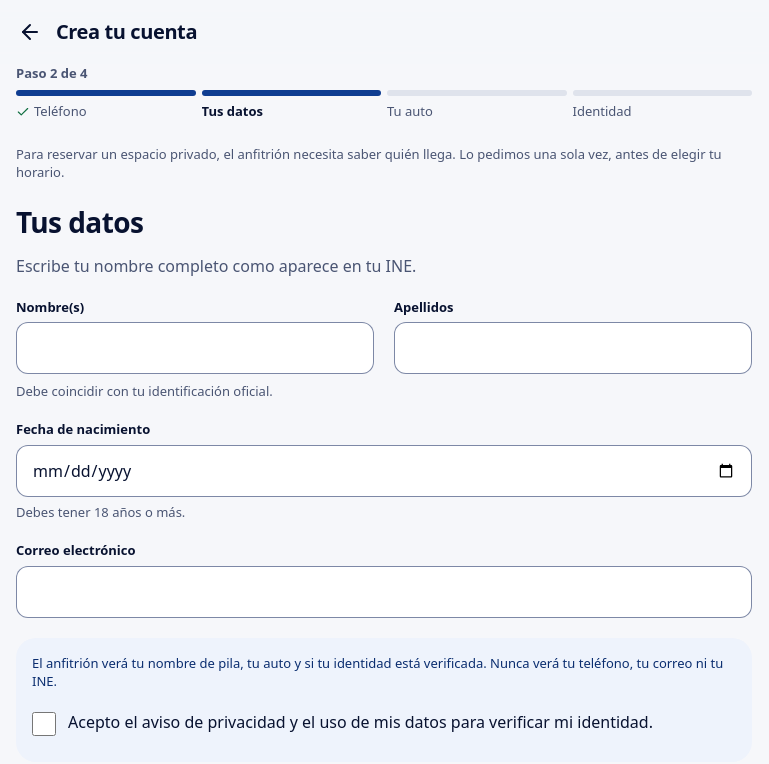
Test: creating an account › does not let anyone continue without accepting the privacy notice
Step 1. Type "Ana" into the field labelled "Nombre(s)" → (195, 348), box [32,322,358,374]
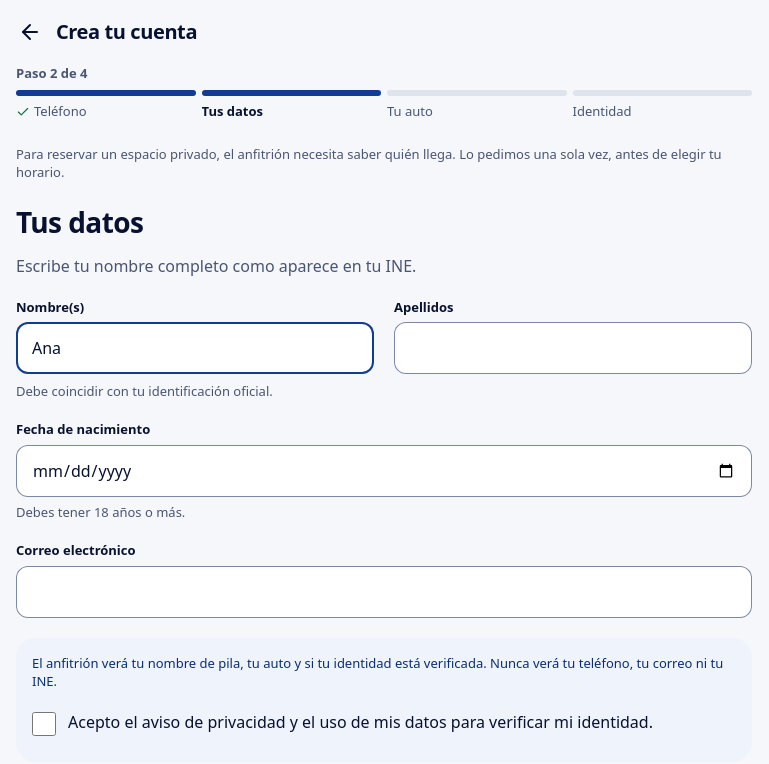
Step 2. Type "López García" into the field labelled "Apellidos" → (573, 348), box [410,322,736,374]
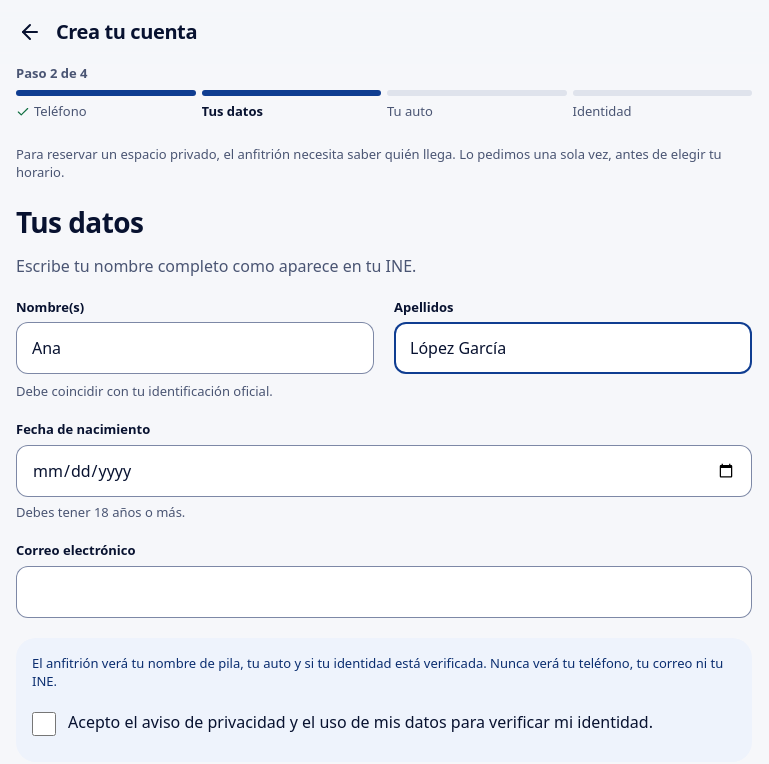
Step 3. Type "1995-03-02" into the date field labelled "Fecha de nacimiento" → (384, 471), box [32,445,736,497]
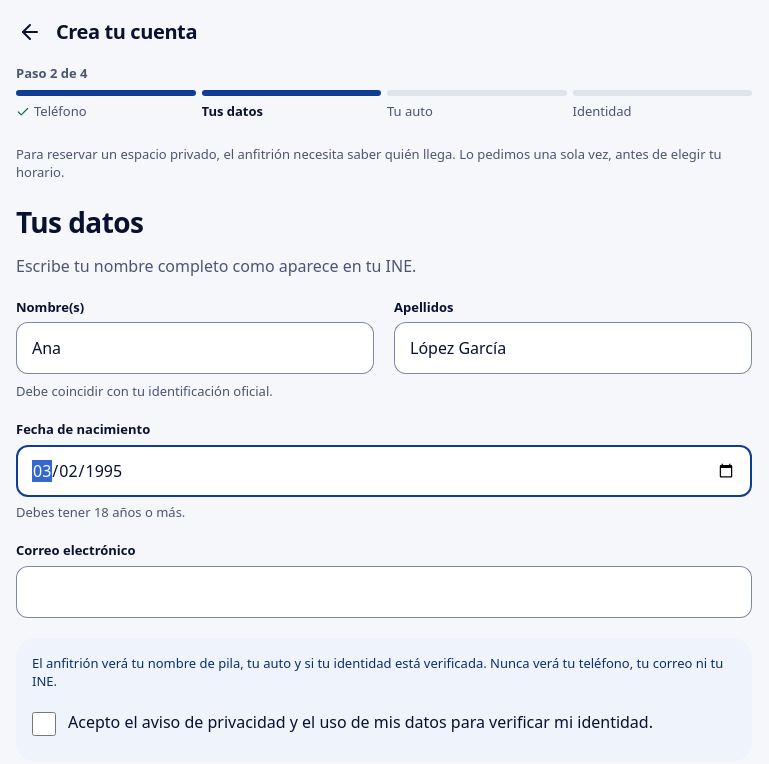
Step 4. Type "ana@example.com" into the field labelled "Correo electrónico" → (384, 592), box [32,566,736,618]
(page scrolled)
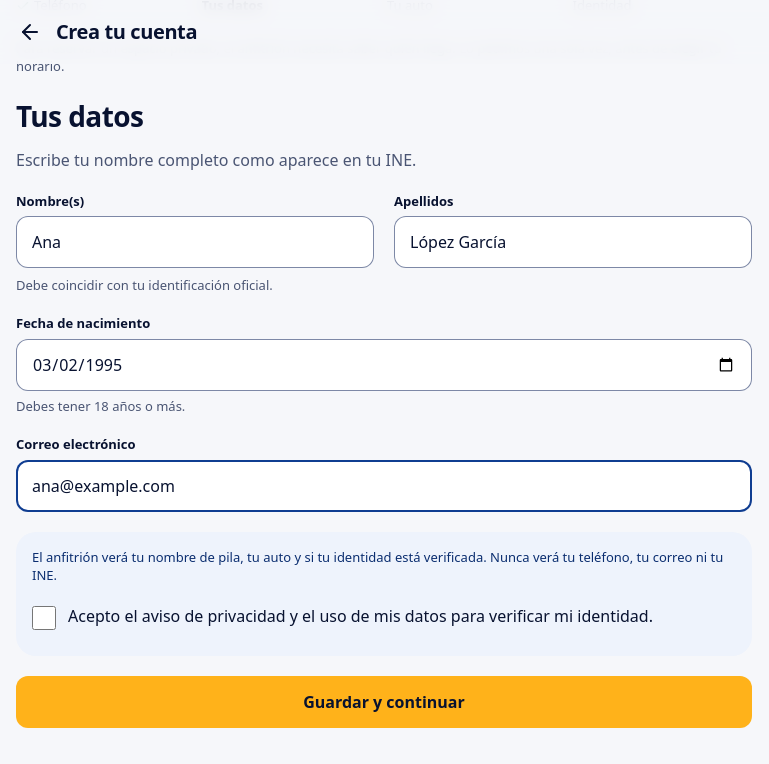
Step 5. Click the button "Guardar y continuar" → (384, 702), box [16,676,752,728]
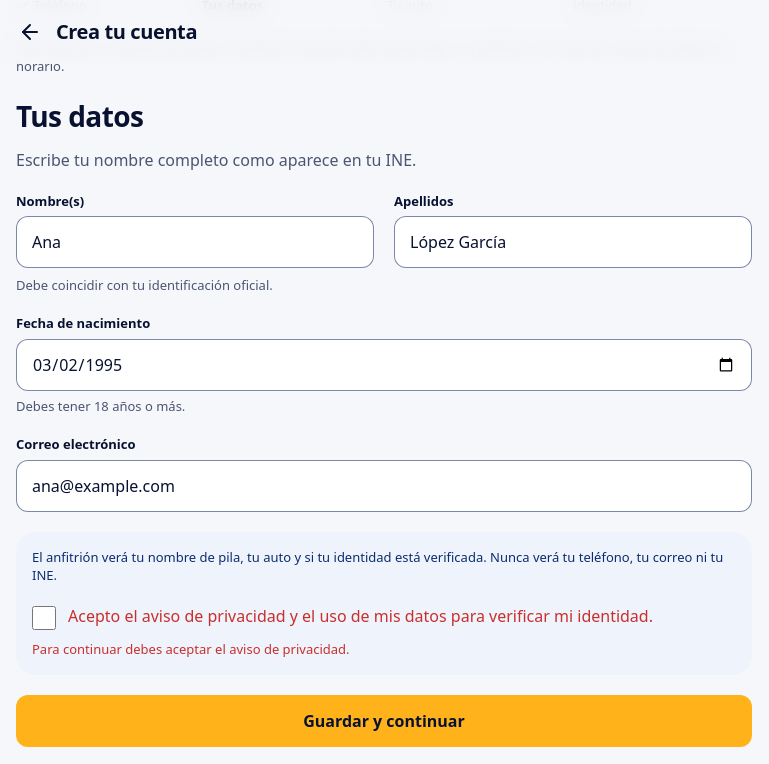
Result: the message shows "aceptar el aviso de privacidad" at [32,640,350,658]
